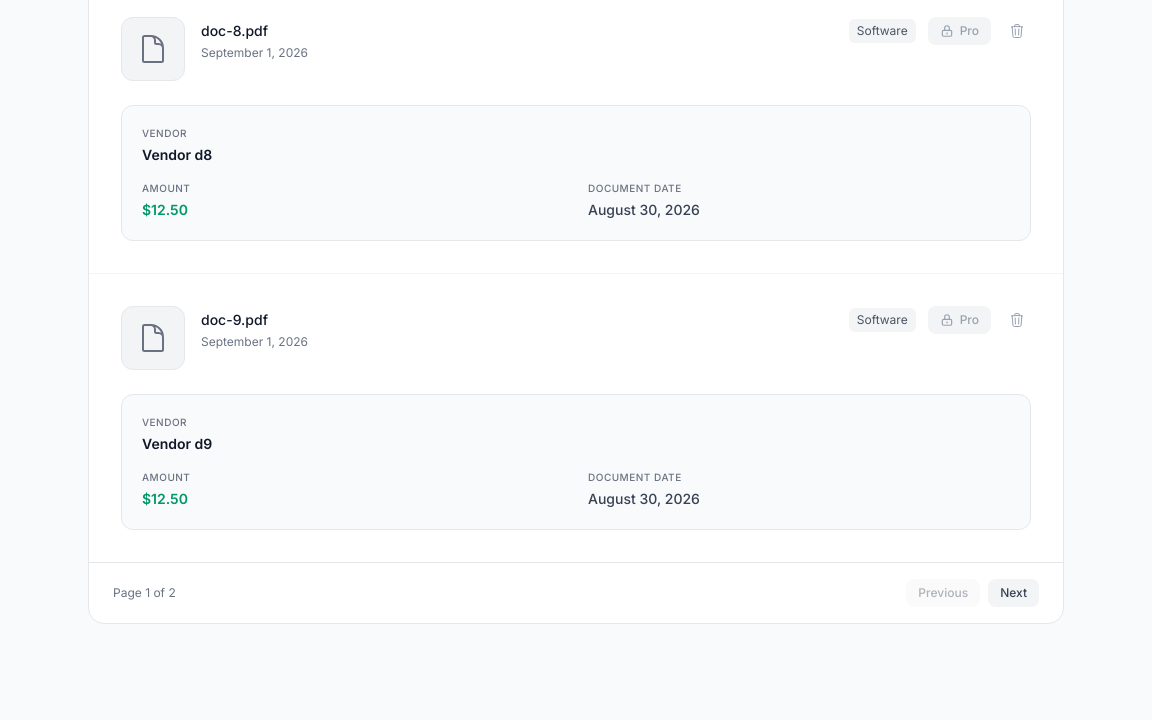
Test: dashboard › stays on a real page after deleting the last document of the last page (regression: blank page 2 of 1)
(page scrolled)
What coordinates should you click on to do the following:
click the button "Next"
I would click on:
 (1014, 593)
Its box is top-left (988, 579), bottom-right (1039, 607).
(page scrolled)
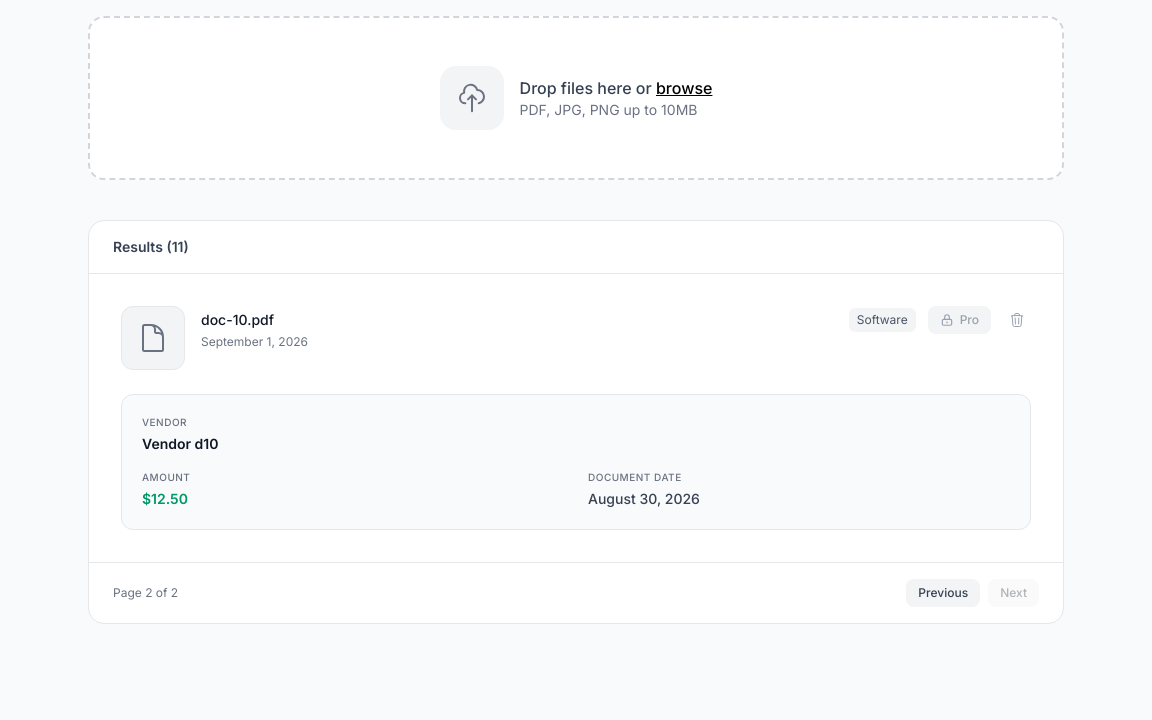
Now the text "doc-10.pdf" is shown, box top-left (201, 310), bottom-right (274, 330)
What coordinates should you click on to do the following:
click the button named "Delete"
I would click on:
 (1017, 320)
Its box is top-left (1003, 306), bottom-right (1031, 334).
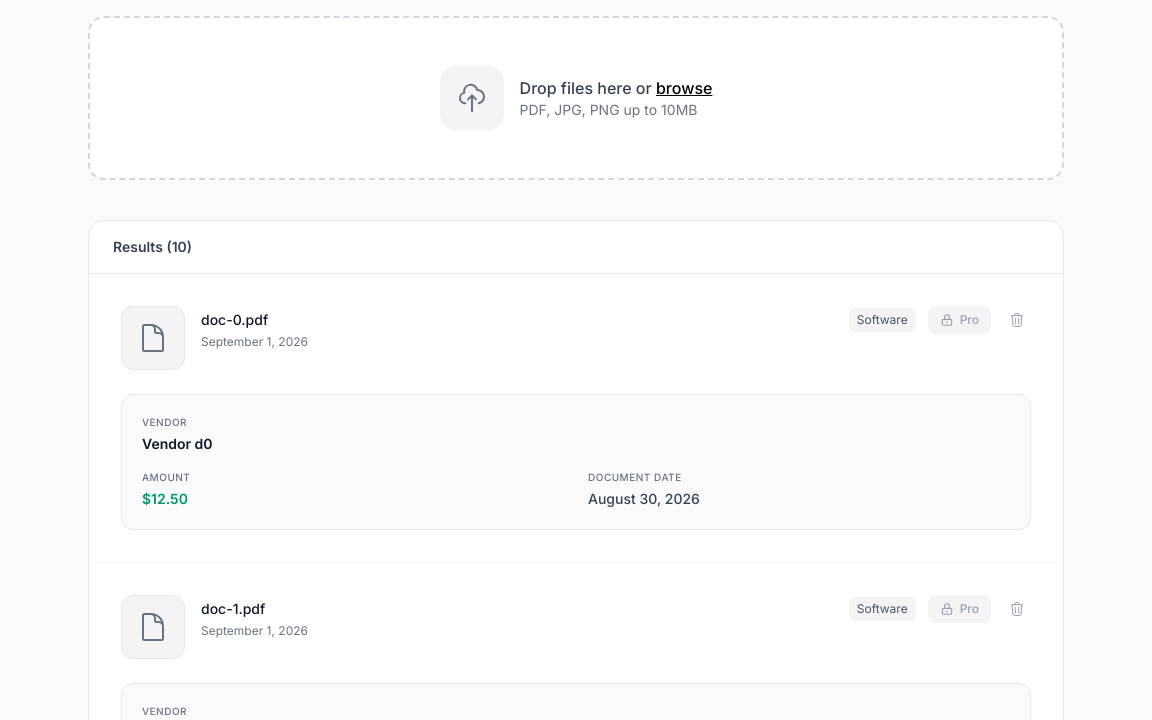
Now the text "doc-0.pdf" is shown, box top-left (201, 310), bottom-right (268, 330)
